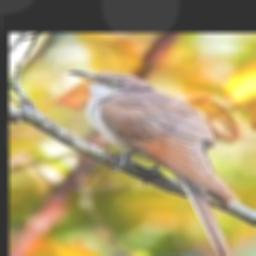Cuckoo: (68, 70, 240, 256)
